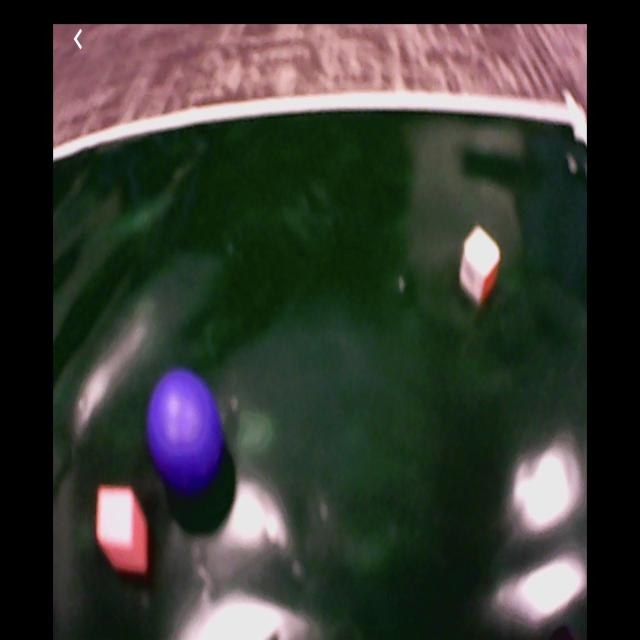ball: (150, 369, 224, 495)
